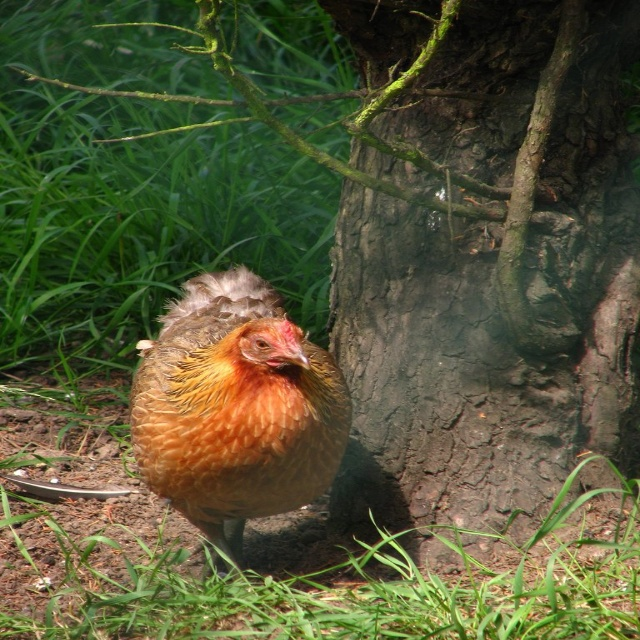Chicken: (118, 263, 361, 575)
